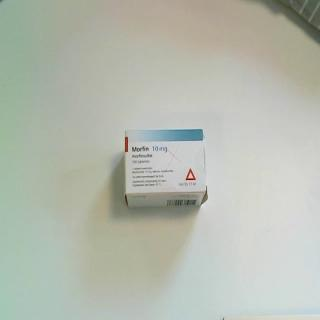morfin10mg: (123, 126, 209, 210)
